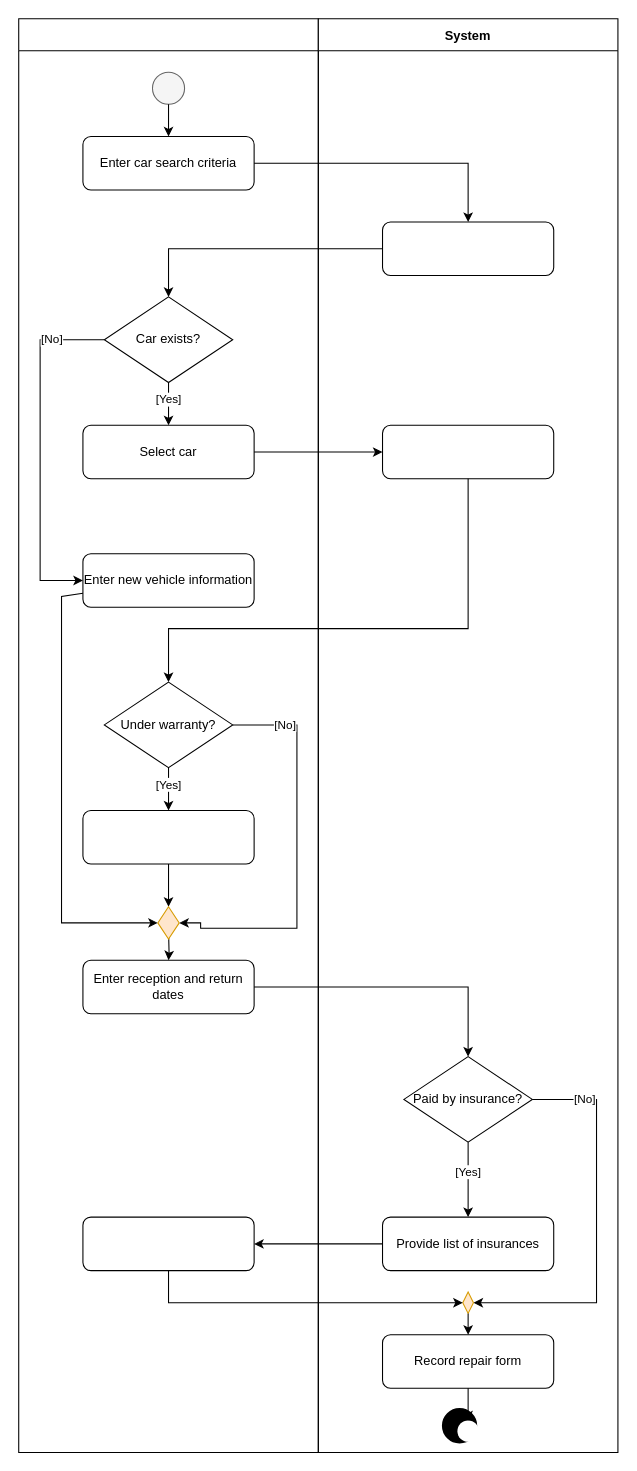
This 637x1471 diagram has some shape labels left out. Here are the shapes that lost their labels. From the top down, the box of each, then its label:
(381, 221, 554, 276): Provide list of cars matching criteria
(381, 424, 554, 479): Provide vehicle information
(18, 18, 318, 1453): Workshop Manager
(82, 809, 254, 864): Enter repair request date
(82, 1216, 254, 1271): Select insurance
